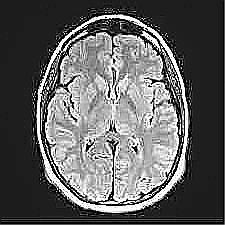Normal_Brain: (1, 2, 225, 225)
